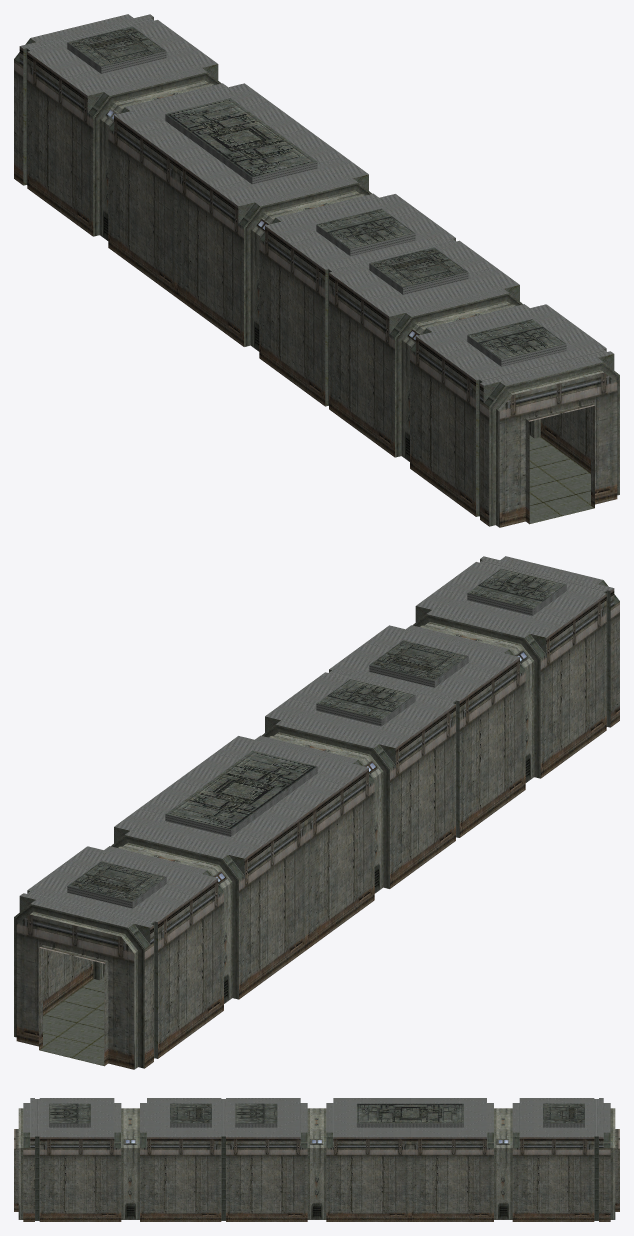
Rendered from poi_all_impl_bunker_crimelord_retreat_s01_r20_hallway06_mesh_r20.fbx.
The picture shows the model from 3 angles, top to bottom: view 1: azimuth 30°, elevation 25°; view 2: azimuth 150°, elevation 25°; view 3: azimuth 270°, elevation 25°; orthographic projection. The views are drawn at different scales.
Visible parts, largest first — view 1: mesh_node; view 2: mesh_node; view 3: mesh_node.
Part boxes in pixels (x1=…): mesh_node: x1=14, y1=14, x2=619, y2=527; mesh_node: x1=14, y1=556, x2=619, y2=1069; mesh_node: x1=14, y1=1098, x2=619, y2=1221.
Size of the model in its own units: 4 by 4.2 by 26.
